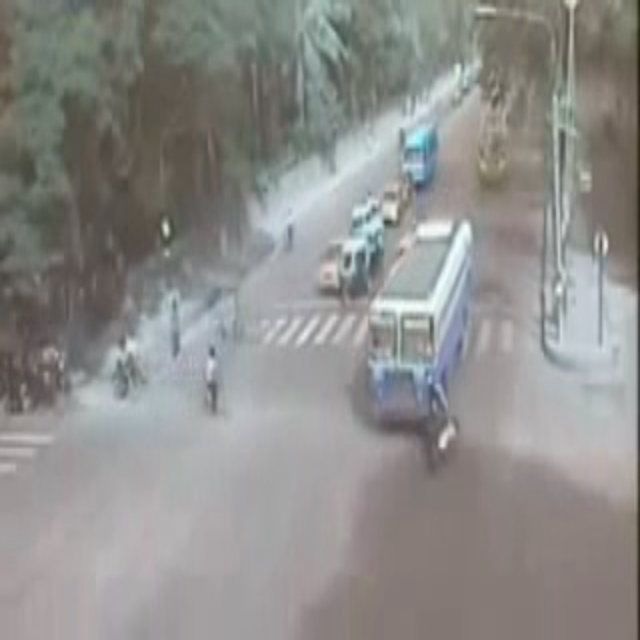acc: (364, 368, 461, 475)
